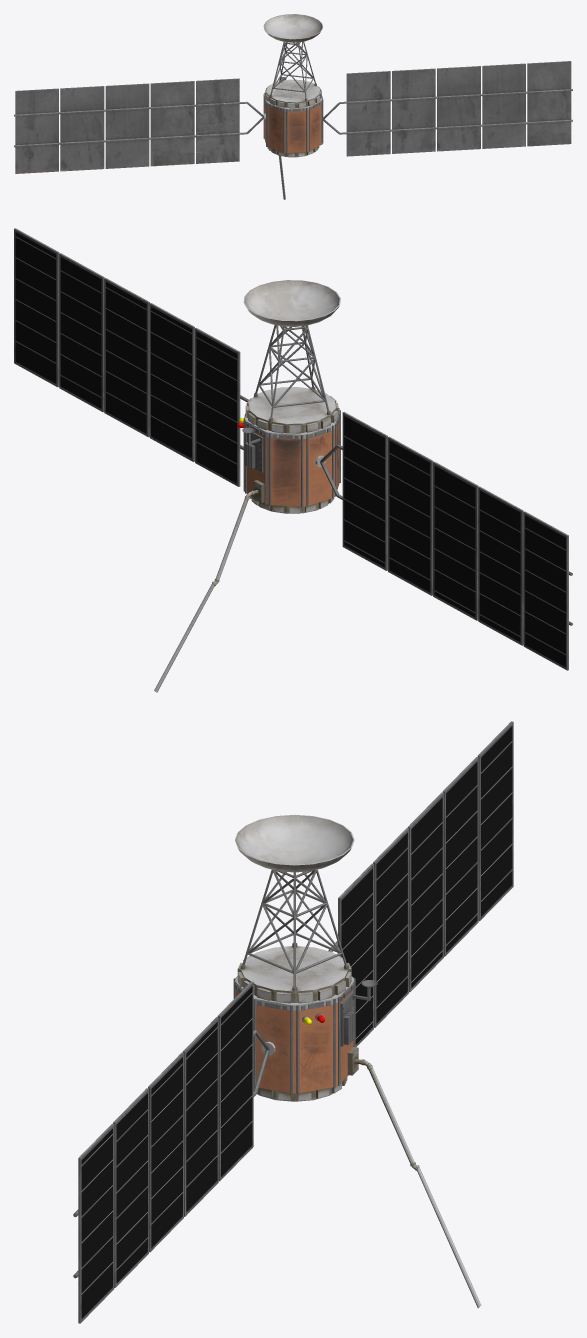
Rendered from satellite.obj.
3 views of the same model, one above another, from view 1: azimuth 30°, elevation 25°; view 2: azimuth 150°, elevation 25°; view 3: azimuth 270°, elevation 25° (orthographic). The views are drawn at different scales.
Parts seen in each view (by area): view 1: SatelliteSubstancePainter; view 2: SatelliteSubstancePainter; view 3: SatelliteSubstancePainter.
Boxes of the visible parts, <box> form: SatelliteSubstancePainter: <box>14,14,572,199</box>; SatelliteSubstancePainter: <box>14,228,572,692</box>; SatelliteSubstancePainter: <box>73,721,513,1323</box>.
Bounding box in the file's own units: 17.13 × 7.85 × 7.25.
Materials: 1 (1 with a texture image).
